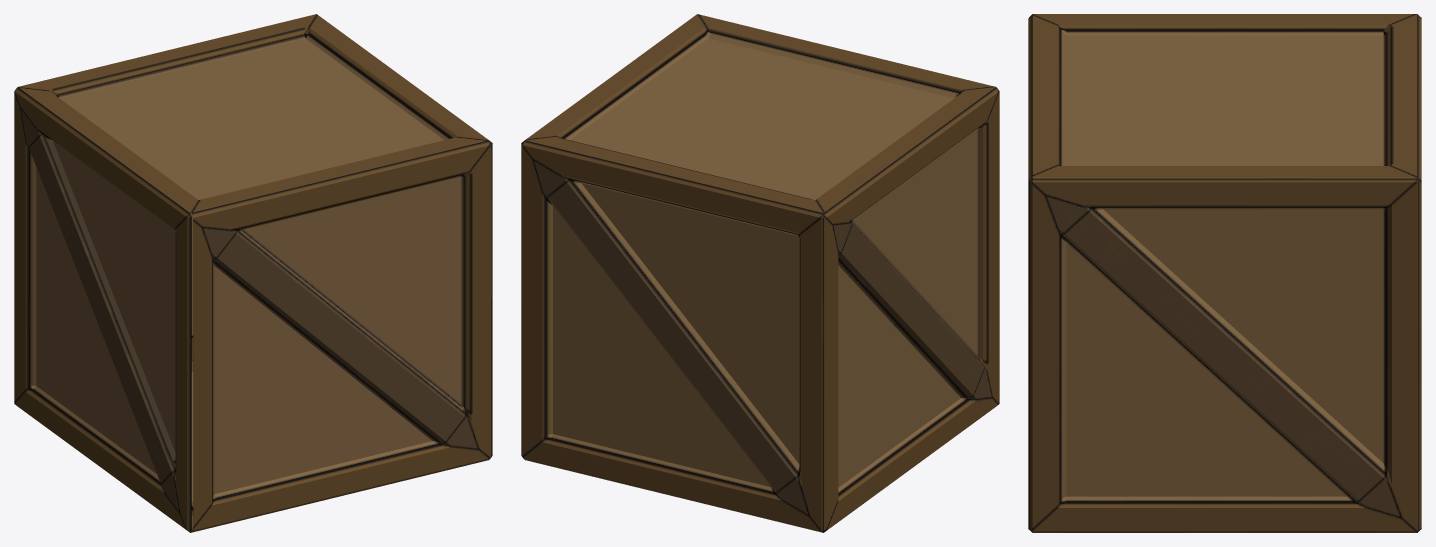
File: crate.fbx
The picture shows the model from 3 angles, left to right: view 1: azimuth 30°, elevation 25°; view 2: azimuth 150°, elevation 25°; view 3: azimuth 270°, elevation 25°; orthographic projection. The views are drawn at different scales.
Parts seen in each view (by area): view 1: Cube; view 2: Cube; view 3: Cube.
Part boxes in pixels (<box>): Cube: <box>14,14,492,532</box>; Cube: <box>521,14,999,532</box>; Cube: <box>1028,14,1421,532</box>.
Size of the model in its own units: 200 by 200 by 200.
